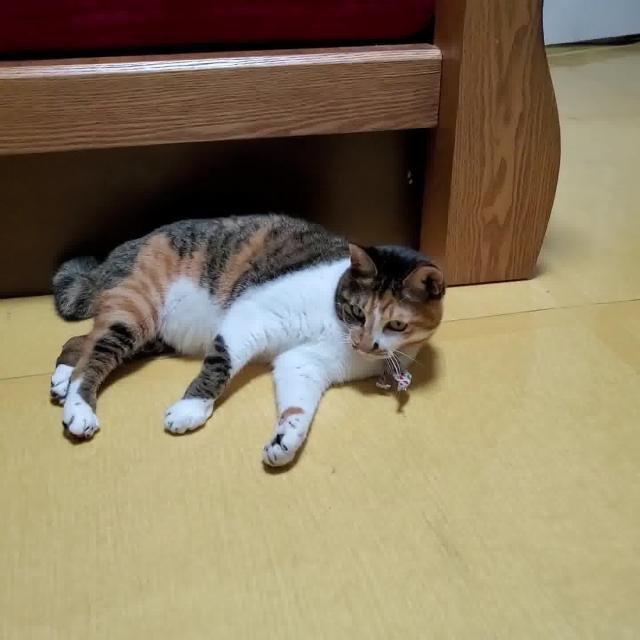cat: (37, 190, 456, 474)
